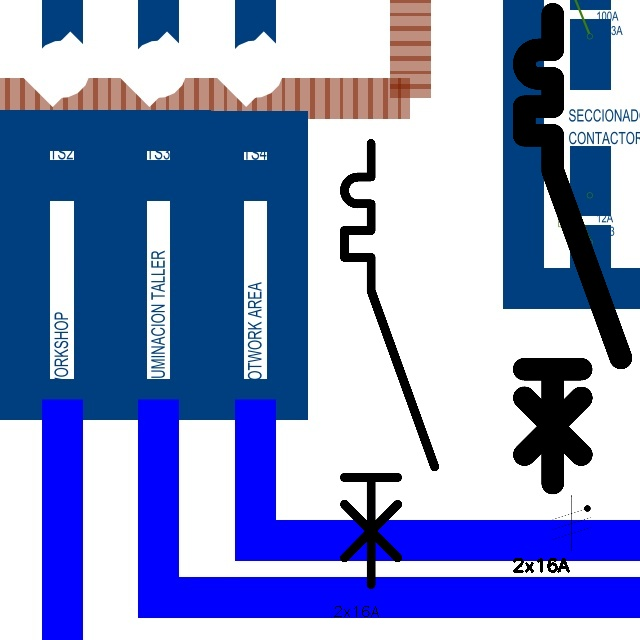interruptor_termomagnetico: (512, 2, 633, 495), (333, 132, 446, 595)
